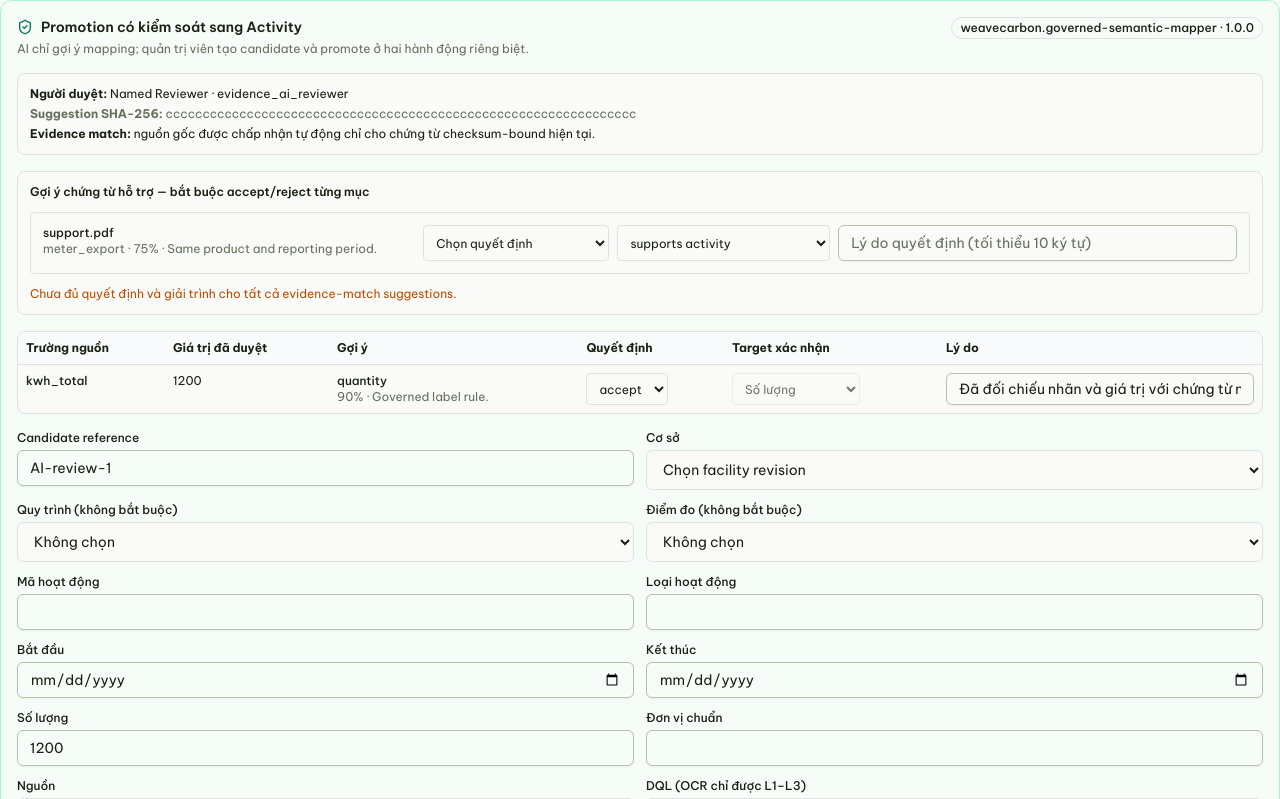
Test: ControlledActivityPromotionPanel behavior › requires an explicit accept/reject decision and rationale for every evidence suggestion
The image size is (1280, 799).
Expected: the text "support.pdf" is shown, [43,225,114,240]
Select "accept" in the dropdown named "Quyết định evidence match" at (516, 243), box [423,225,609,261]
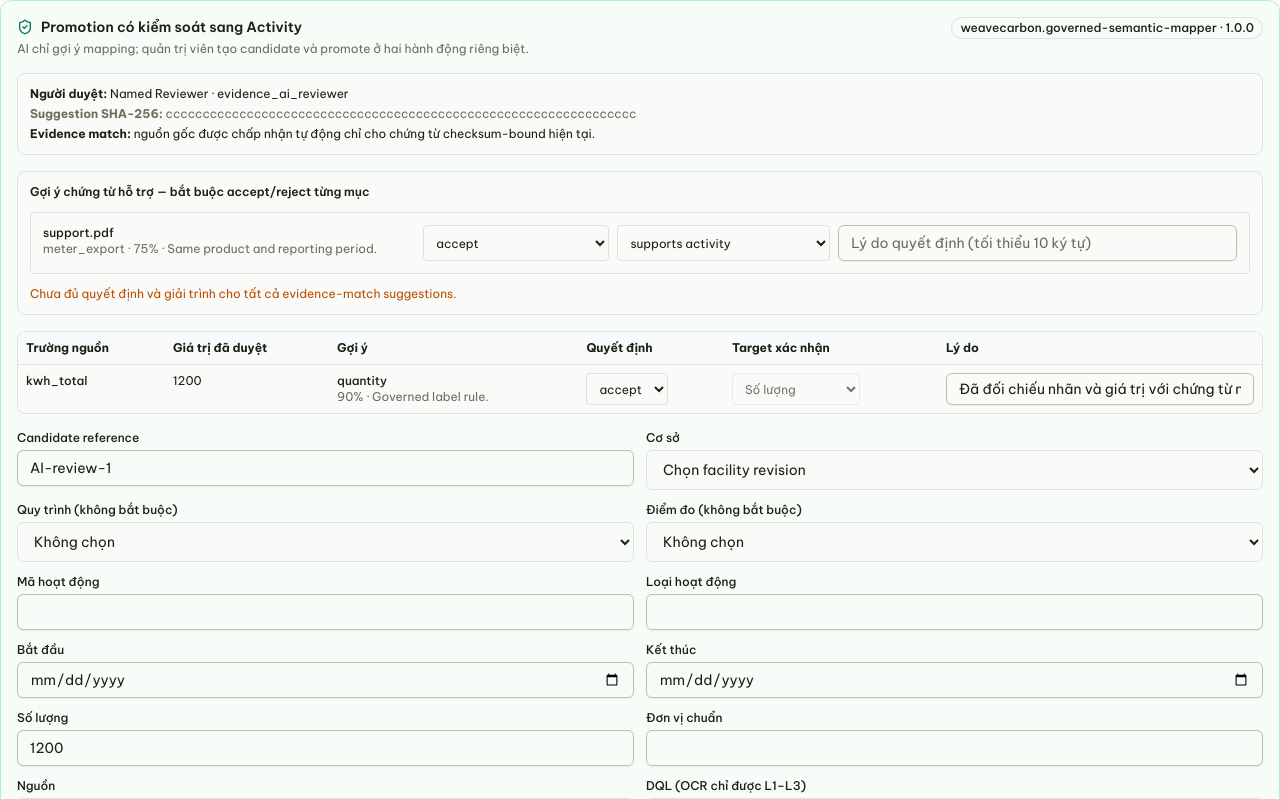
Type "Đã đối chiếu chứng từ hỗ trợ với kỳ hoạt động." into the field with placeholder "Lý do quyết định (tối thiểu 10 ký tự)" at (1038, 243), box [838,225,1237,261]
(page scrolled)
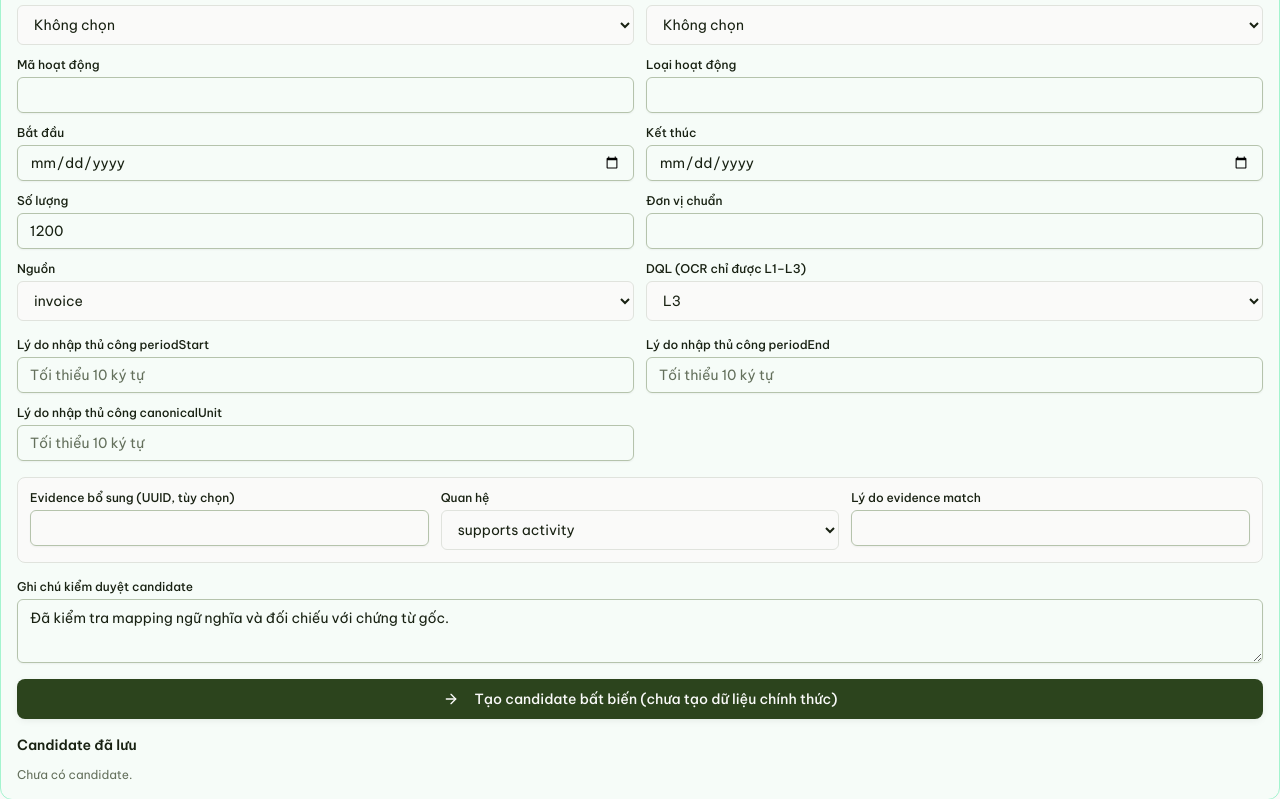
Expected: the button "Tạo candidate bất biến (chưa tạo dữ liệu chính thức)" is enabled, [17,679,1263,719]
